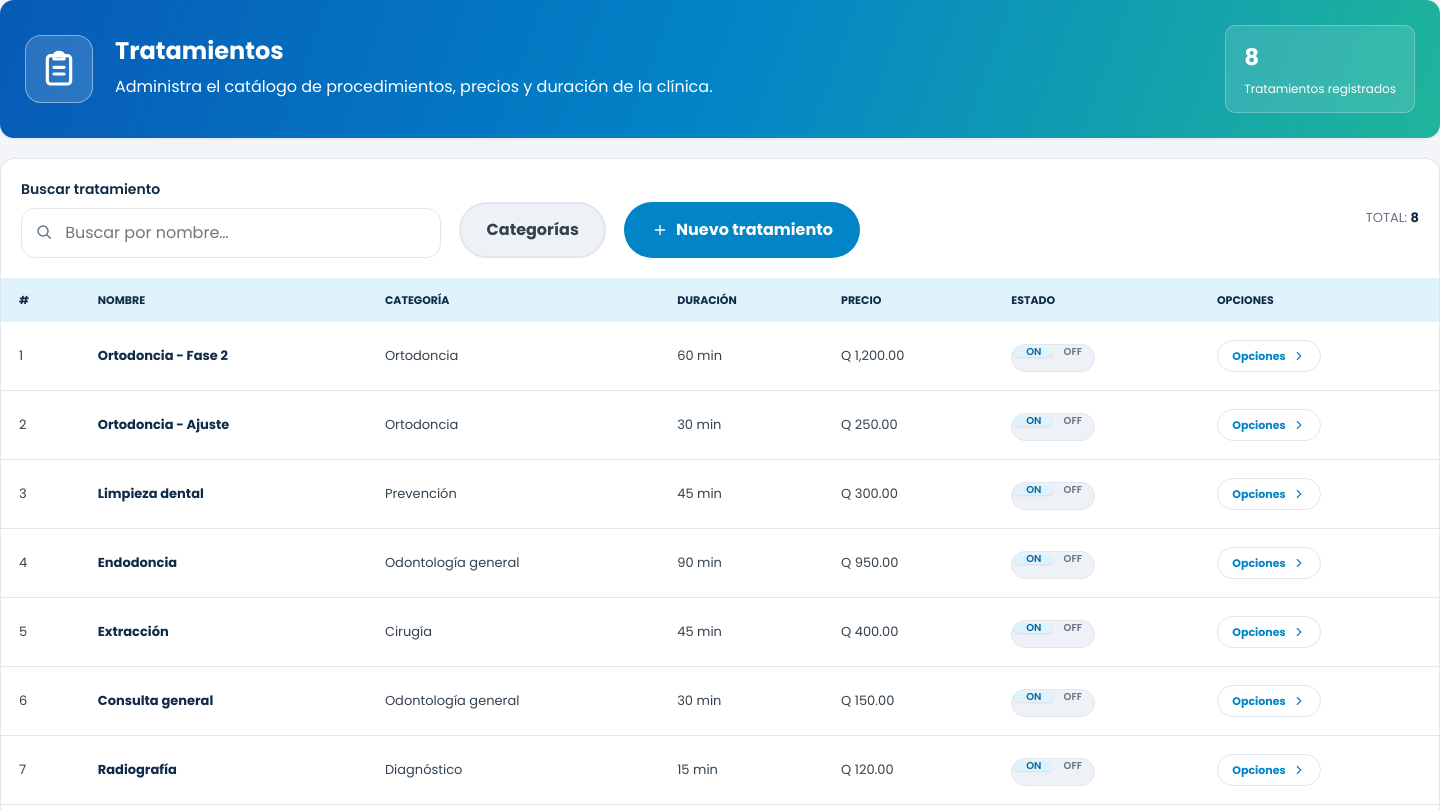
Test case: Tratamientos › abre las acciones al pulsar la fila y no al cambiar el estado
The image size is (1440, 810).
Click the cell "Limpieza dental".
click(223, 494)  # box top-left (80, 460), bottom-right (367, 528)
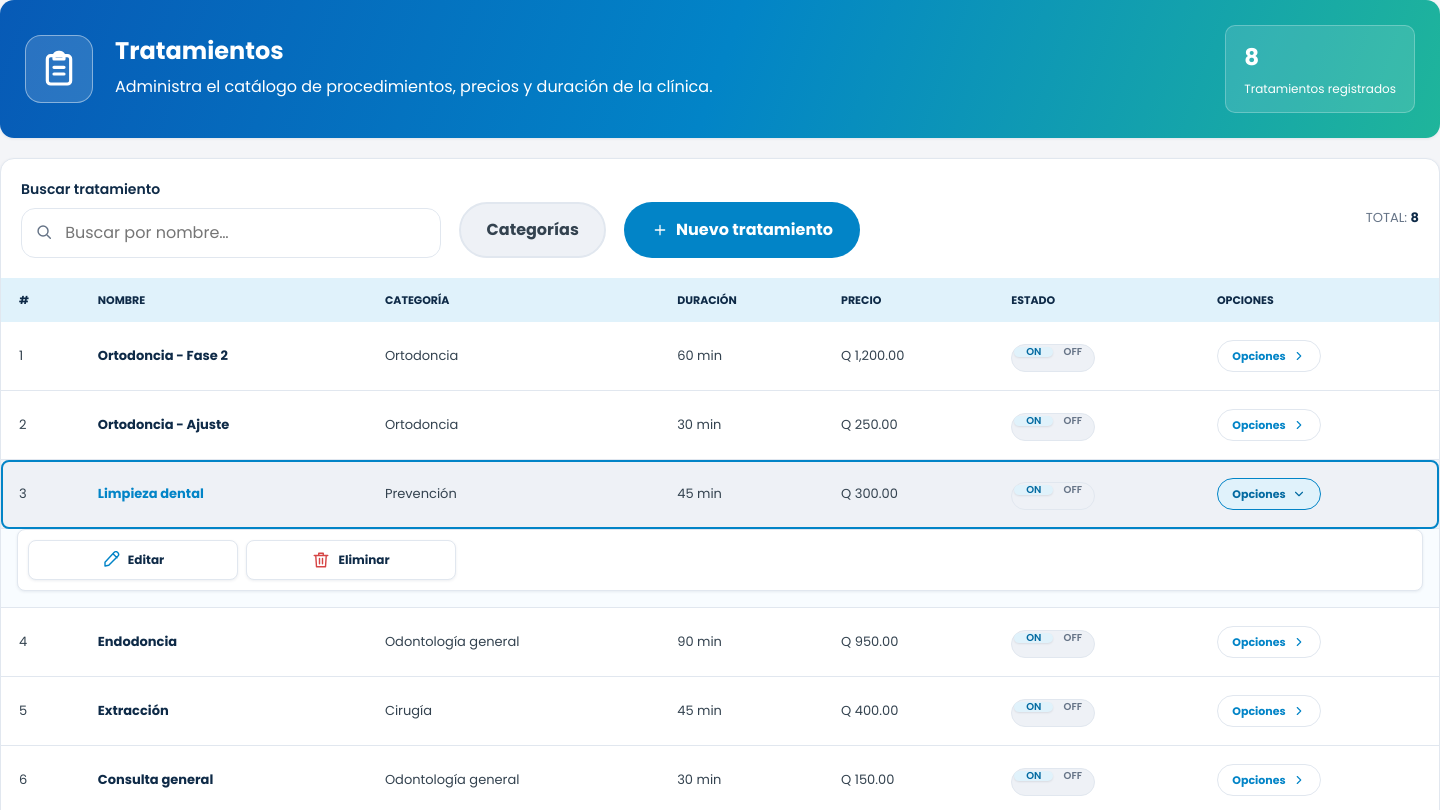
expect the button with aria-label "Opciones de Limpieza dental" is expanded: met, box top-left (1217, 478), bottom-right (1321, 510)
expect the button "Editar" is shown: met, box top-left (28, 540), bottom-right (238, 580)
Click the button with aria-label "Cambiar estado de Limpieza dental".
click(1053, 496)  # box top-left (1011, 482), bottom-right (1095, 510)
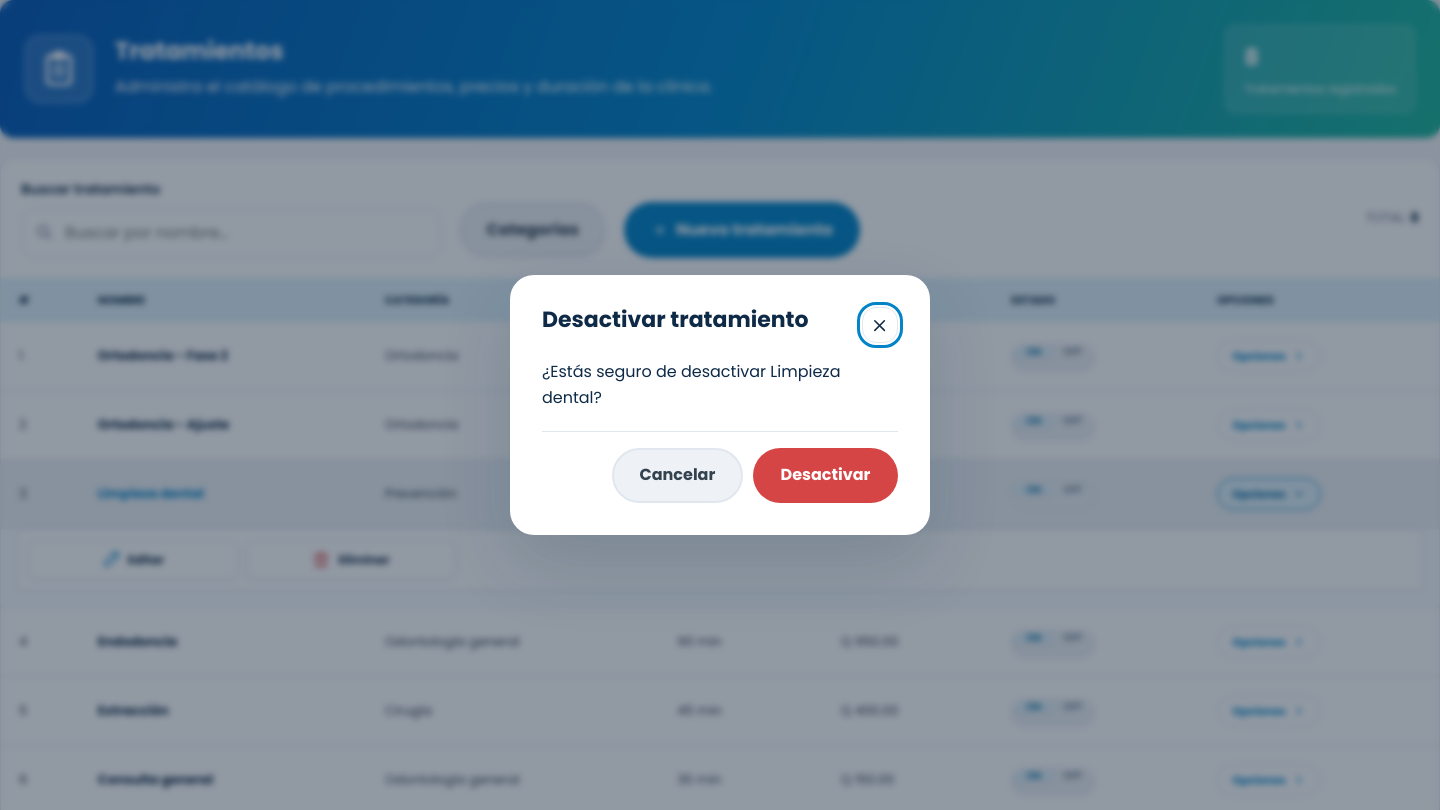
expect the button with aria-label "Opciones de Limpieza dental" is expanded: met, box top-left (1217, 478), bottom-right (1321, 510)
expect the dialog "Desactivar tratamiento" is shown: met, box top-left (510, 275), bottom-right (930, 535)
Click the button "Cancelar".
click(677, 475)  # box top-left (612, 448), bottom-right (743, 503)
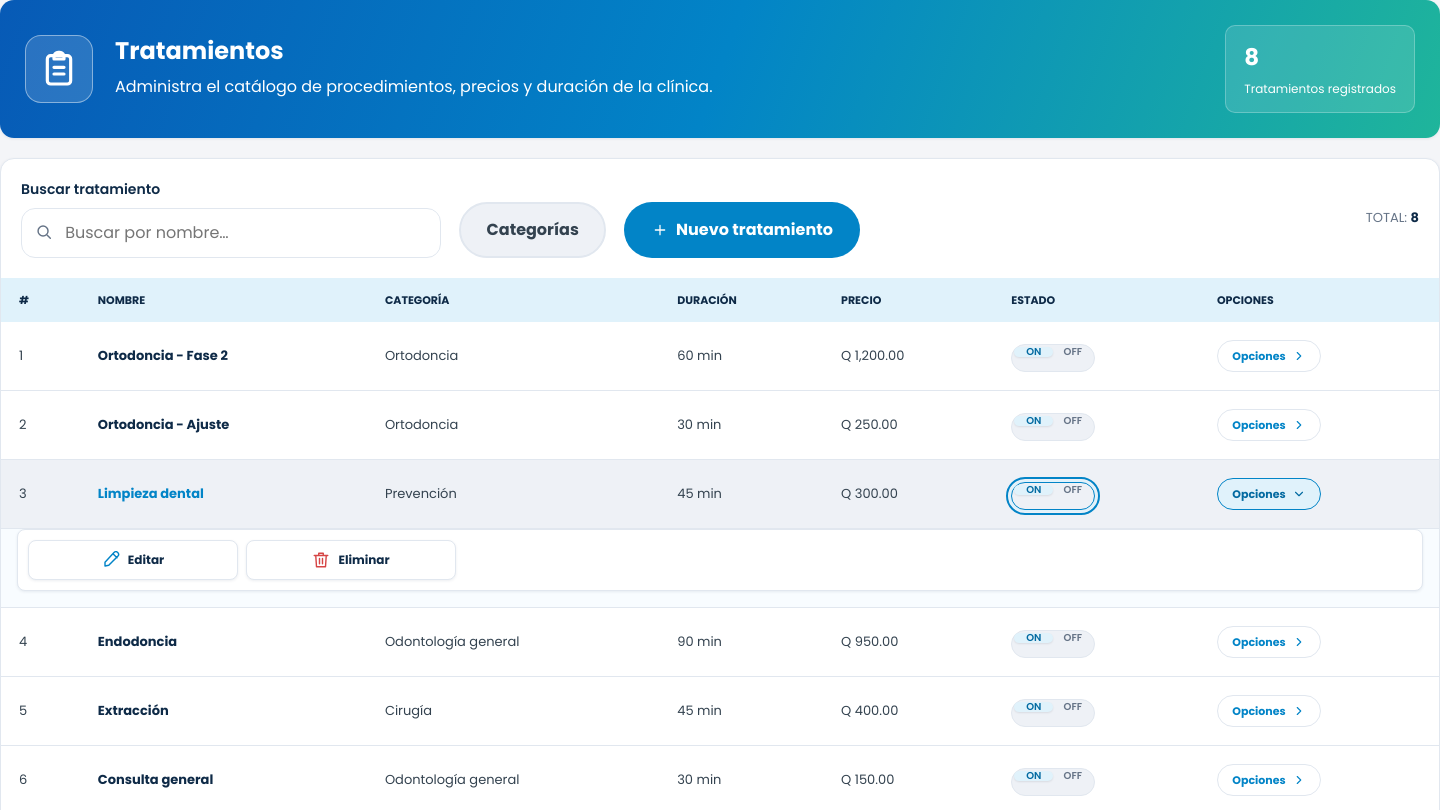
Click the cell "Limpieza dental".
click(223, 494)  # box top-left (80, 460), bottom-right (367, 528)
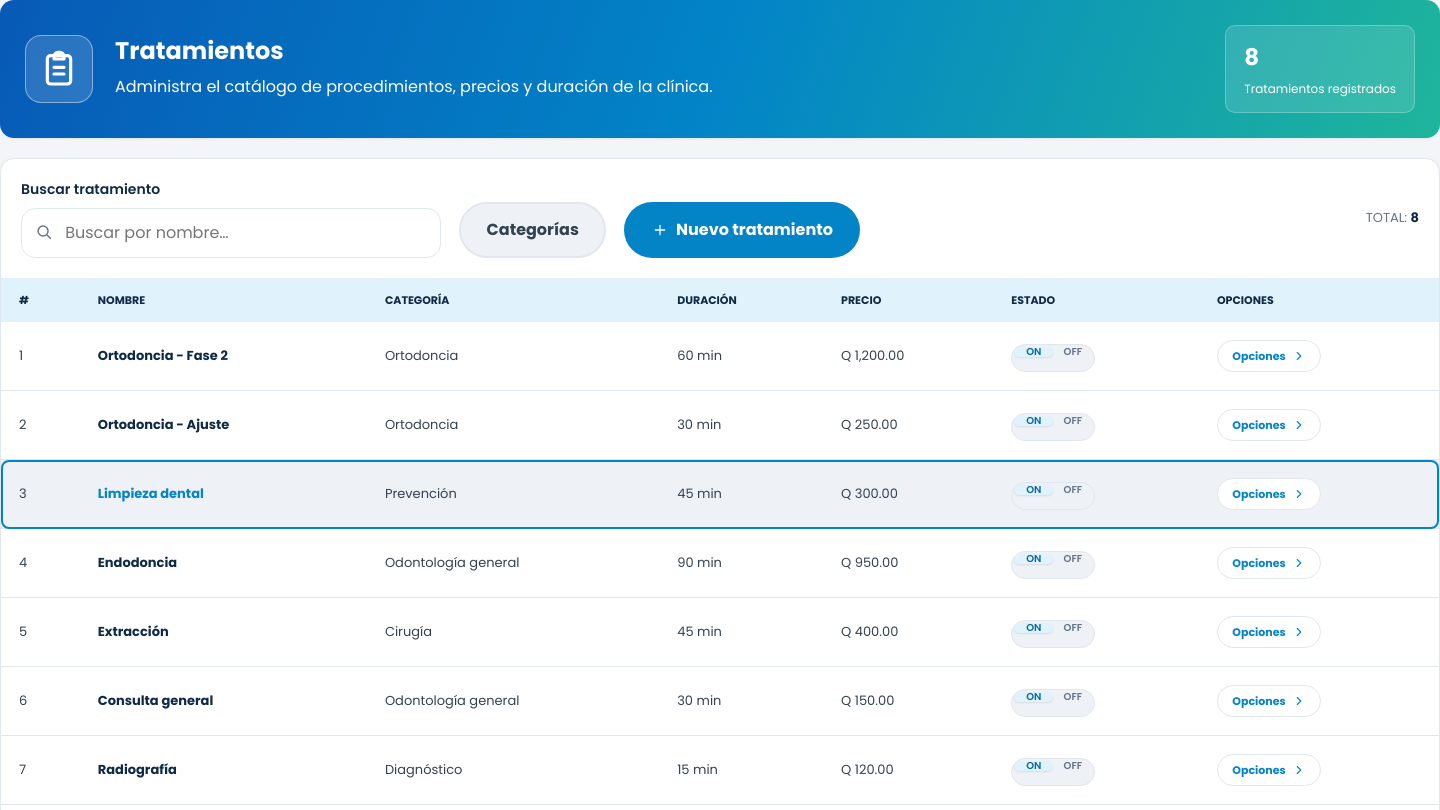
expect the button with aria-label "Opciones de Limpieza dental" is collapsed: met, box top-left (1217, 478), bottom-right (1321, 510)
